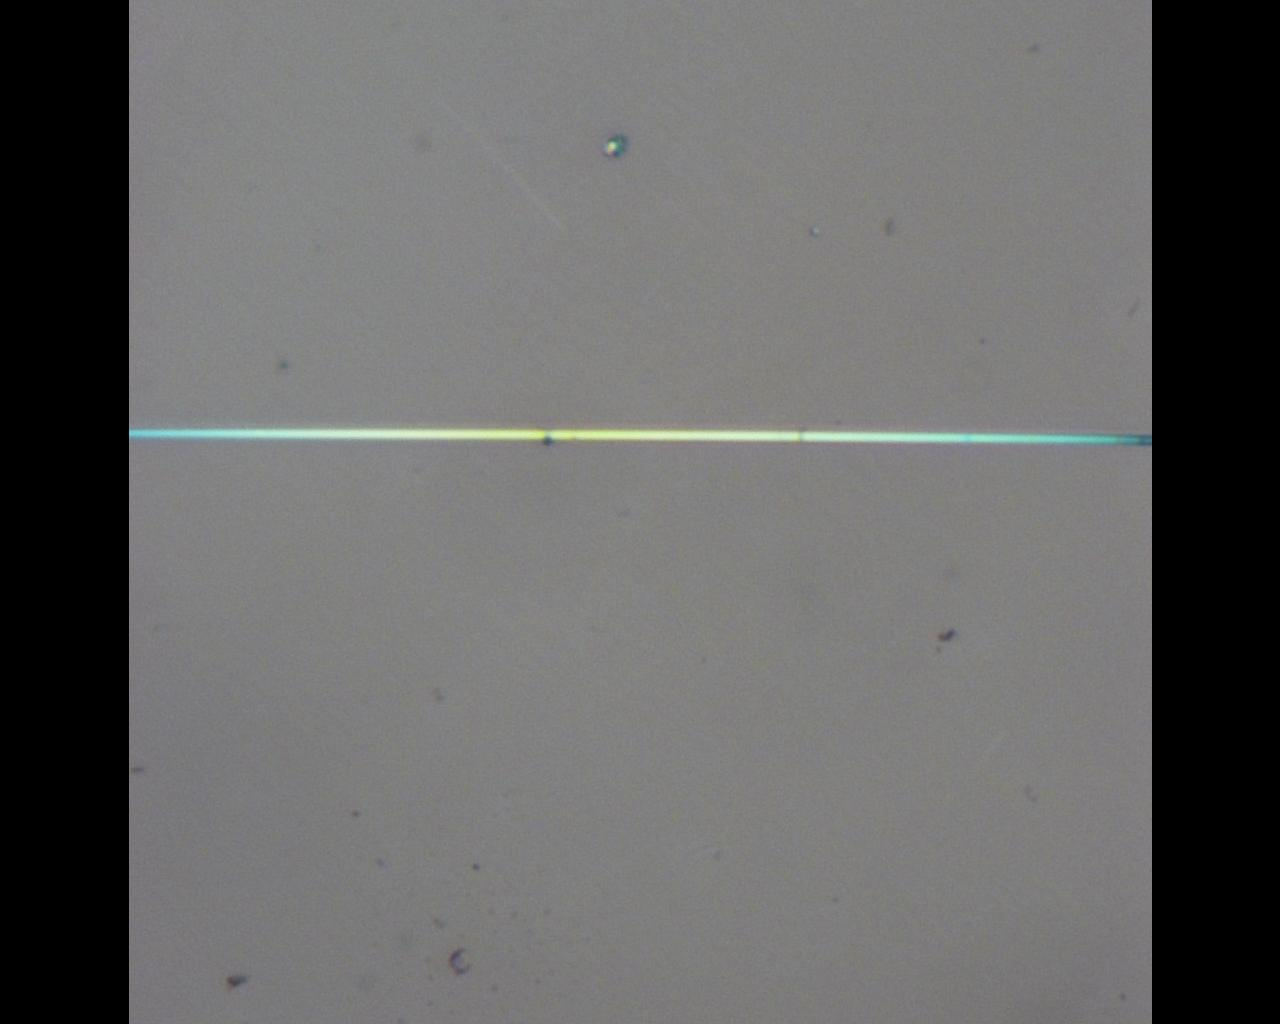fiber: (128, 426, 1152, 445)
